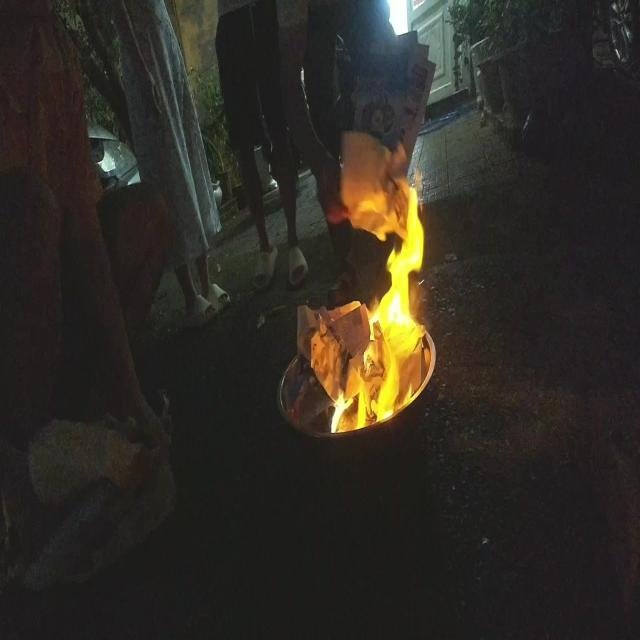Fire: (330, 167, 426, 430)
